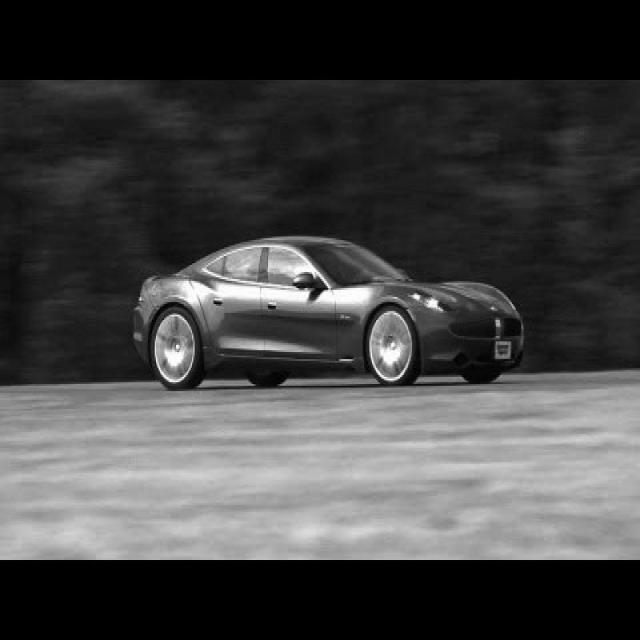car: (131, 233, 524, 389)
